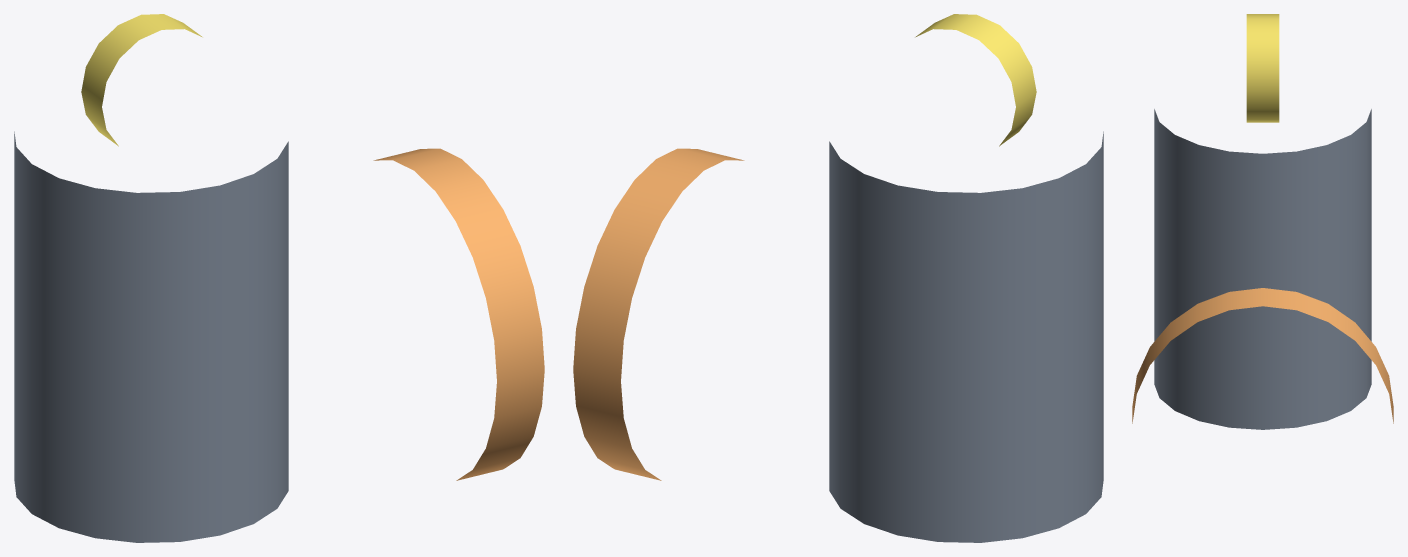
Rendered from air_standard_cycles.glb.
The picture shows the model from 3 angles, left to right: view 1: azimuth 30°, elevation 25°; view 2: azimuth 150°, elevation 25°; view 3: azimuth 270°, elevation 25°; orthographic projection. The views are drawn at different scales.
Visible parts, largest first — view 1: EngineCylinderBlock, EngineFlywheelWheel, PVIndicatorGauge; view 2: EngineCylinderBlock, EngineFlywheelWheel, PVIndicatorGauge; view 3: EngineCylinderBlock, EngineFlywheelWheel, PVIndicatorGauge.
Boxes of the visible parts, x1,y1,x2,y2 form: EngineCylinderBlock: [14, 131, 288, 542]; EngineFlywheelWheel: [373, 148, 544, 480]; PVIndicatorGauge: [81, 14, 202, 146]; EngineCylinderBlock: [829, 131, 1103, 542]; EngineFlywheelWheel: [573, 148, 744, 480]; PVIndicatorGauge: [915, 14, 1036, 146]; EngineCylinderBlock: [1154, 109, 1371, 429]; EngineFlywheelWheel: [1132, 288, 1393, 423]; PVIndicatorGauge: [1246, 14, 1279, 122].
Size of the model in its own units: 1.8 by 2.05 by 1.2.
